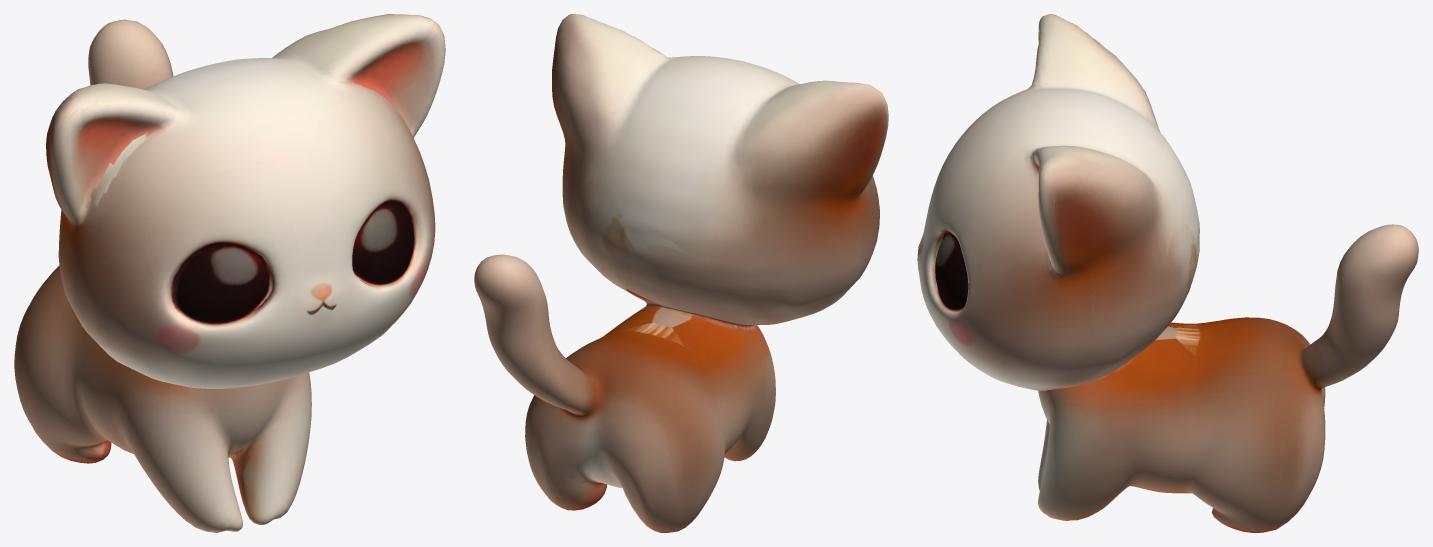
File: cat.glb
3 renders of one model, left to right at view 1: azimuth 30°, elevation 25°; view 2: azimuth 150°, elevation 25°; view 3: azimuth 270°, elevation 25°, orthographic. The views are drawn at different scales.
Visible parts, largest first — view 1: model; view 2: model; view 3: model.
Boxes of the visible parts, x1,y1,x2,y2 form: model: [14, 14, 445, 532]; model: [474, 14, 888, 532]; model: [917, 14, 1418, 532].
Bounding box in the file's own units: 1.52 × 1.74 × 1.9.
1 material, 1 textured.
